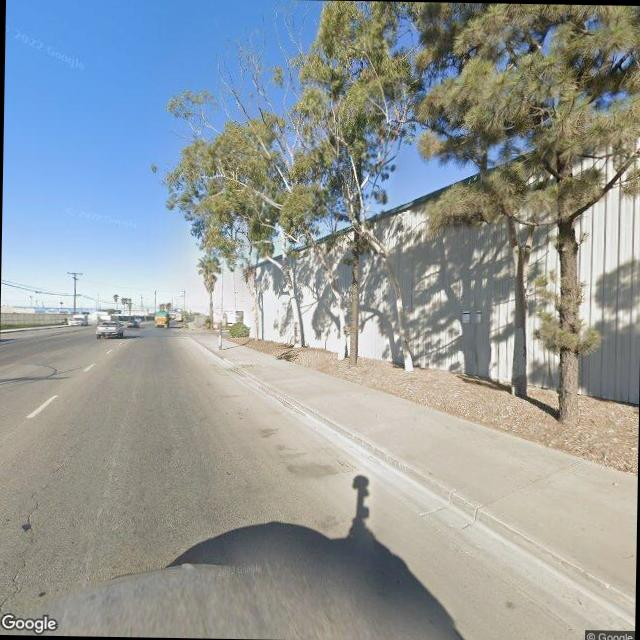pothole: (0, 455, 65, 615)
